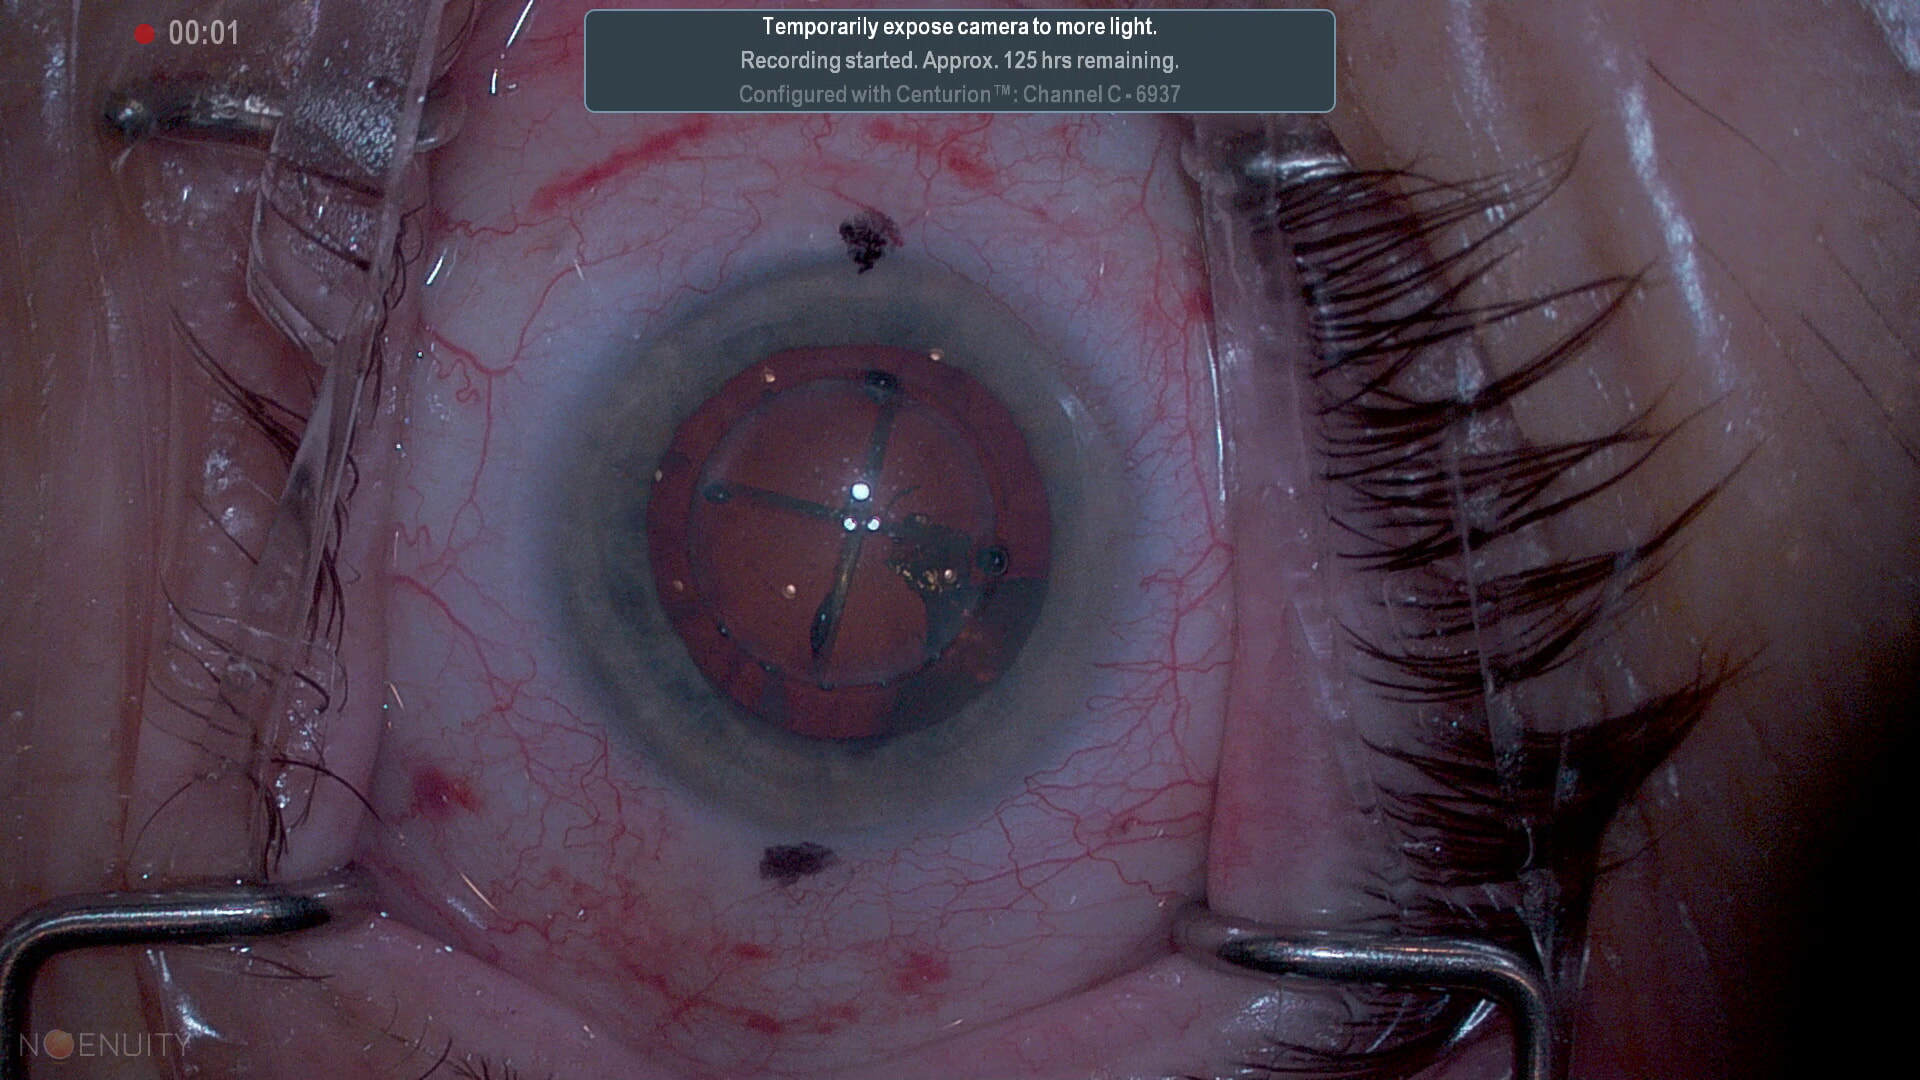iris: (559, 263, 1127, 834)
pupil: (633, 341, 1064, 746)
